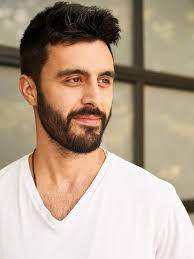b.y: (67, 105, 104, 153)
